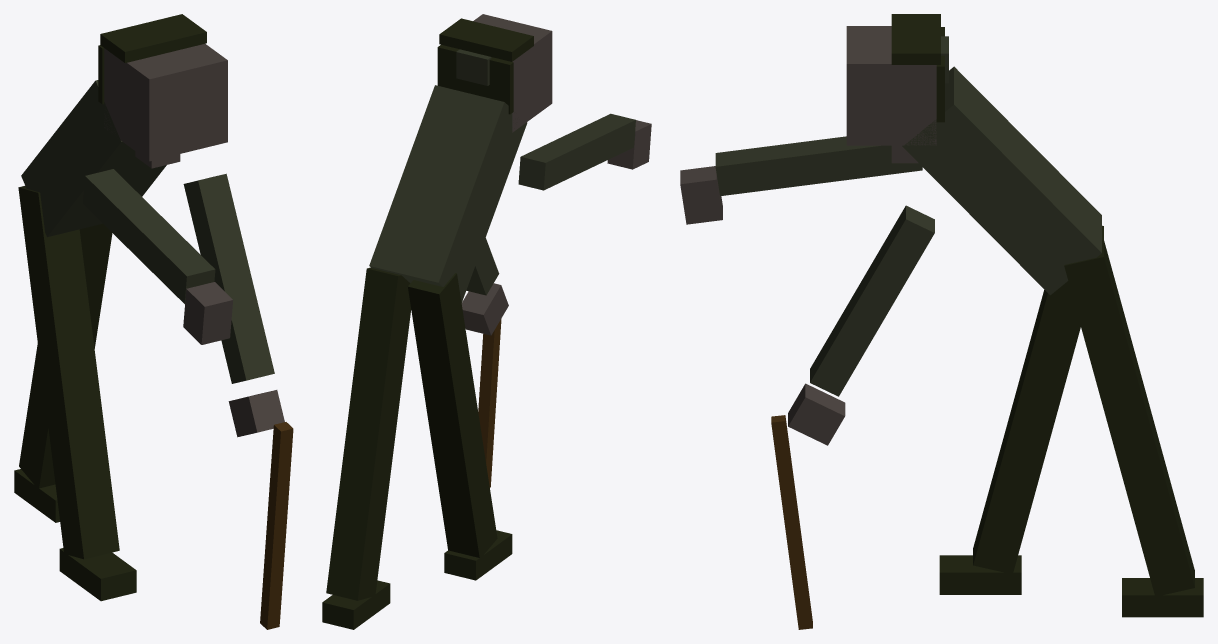
Rendered from SM_ZombiFino_v14_Anciano_LOD0.fbx.
3 renders of one model, left to right at view 1: azimuth 30°, elevation 25°; view 2: azimuth 150°, elevation 25°; view 3: azimuth 270°, elevation 25°, orthographic. The views are drawn at different scales.
Visible parts, largest first — view 1: SM_zombi_fino_v14_LOD0; view 2: SM_zombi_fino_v14_LOD0; view 3: SM_zombi_fino_v14_LOD0.
Part boxes in pixels (x1,y1,x2,y2): SM_zombi_fino_v14_LOD0: [14, 14, 293, 629]; SM_zombi_fino_v14_LOD0: [322, 14, 651, 629]; SM_zombi_fino_v14_LOD0: [680, 14, 1203, 629].
Size of the model in its own units: 0.38 by 1.52 by 1.28.
